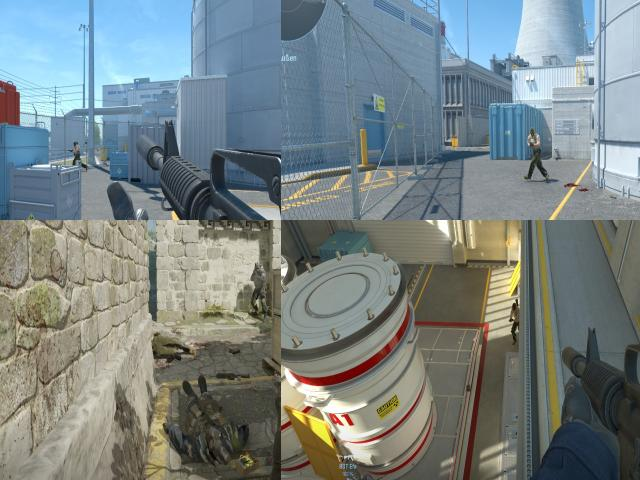Bomb: (230, 445, 259, 480), (464, 383, 472, 397)
CT: (243, 263, 270, 323)
CT-Head: (250, 262, 264, 280)
Dead: (152, 358, 242, 468), (150, 330, 200, 356)
T: (528, 127, 545, 184), (512, 305, 520, 343), (74, 141, 82, 165)
T-Head: (530, 128, 536, 137), (512, 304, 518, 312), (74, 142, 76, 146)
